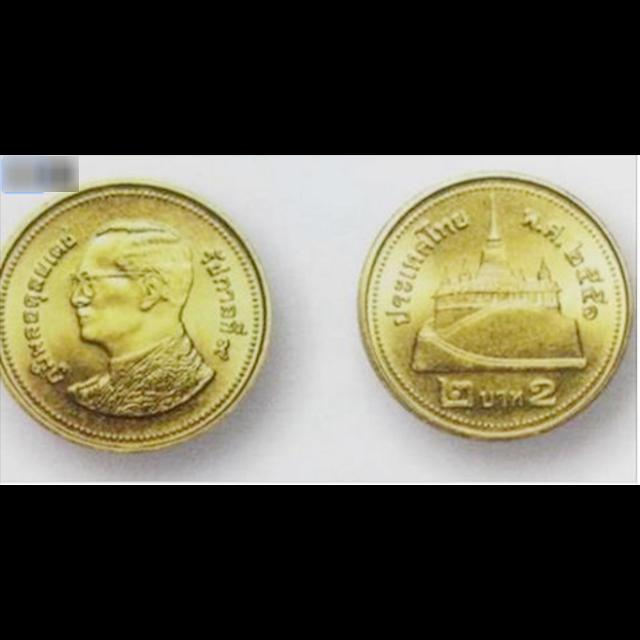2-baht: (348, 168, 636, 458), (0, 181, 271, 456)
